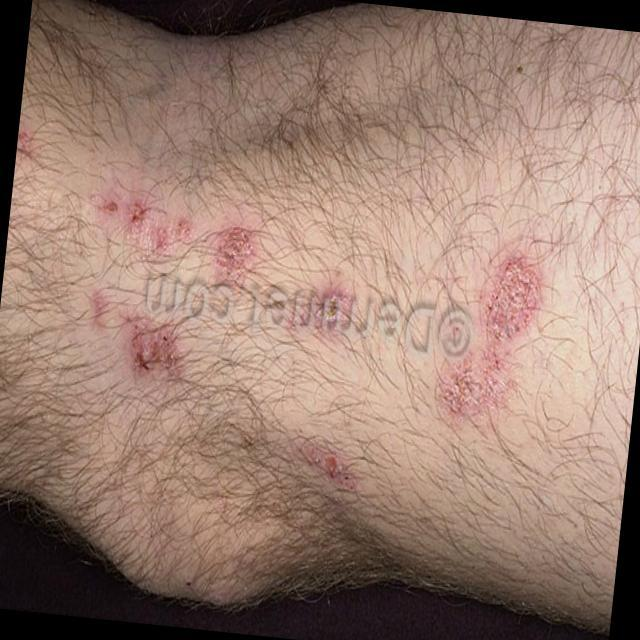Eczema: (59, 172, 543, 446)
